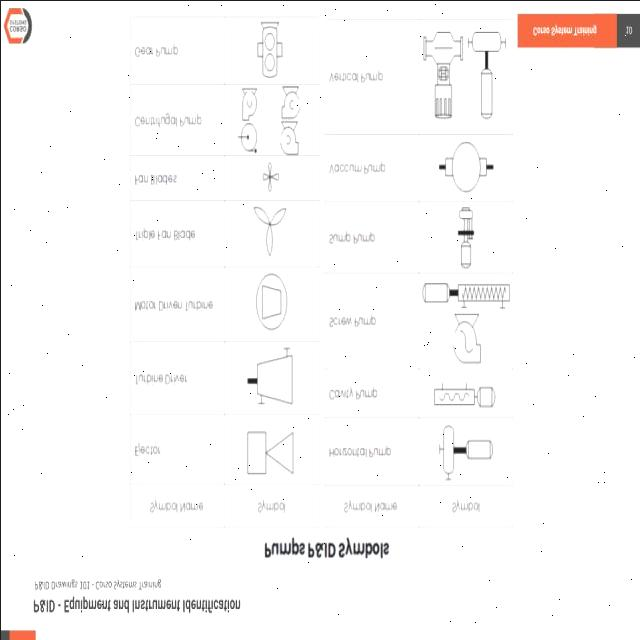Cavity Pump: (427, 374, 499, 416)
Centrifugal Pump: (272, 79, 310, 121), (275, 114, 307, 162), (236, 79, 266, 121), (237, 120, 262, 152)
Ejector: (242, 422, 300, 482)
Fan Blades: (256, 158, 286, 195)
Gear Pump: (238, 15, 292, 83)
Horizontal Pump: (425, 422, 496, 483)
Motor Driven Turbine: (240, 268, 298, 338)
Screw Pump: (419, 276, 514, 316), (439, 310, 487, 370)
Sump Pump: (449, 202, 480, 270)
Triple Fan Blade: (246, 200, 296, 264)
Turbine Driver: (236, 342, 302, 411)
Vaccum Pump: (426, 140, 506, 192)
Vertical Pump: (462, 19, 514, 132), (420, 20, 468, 128)
